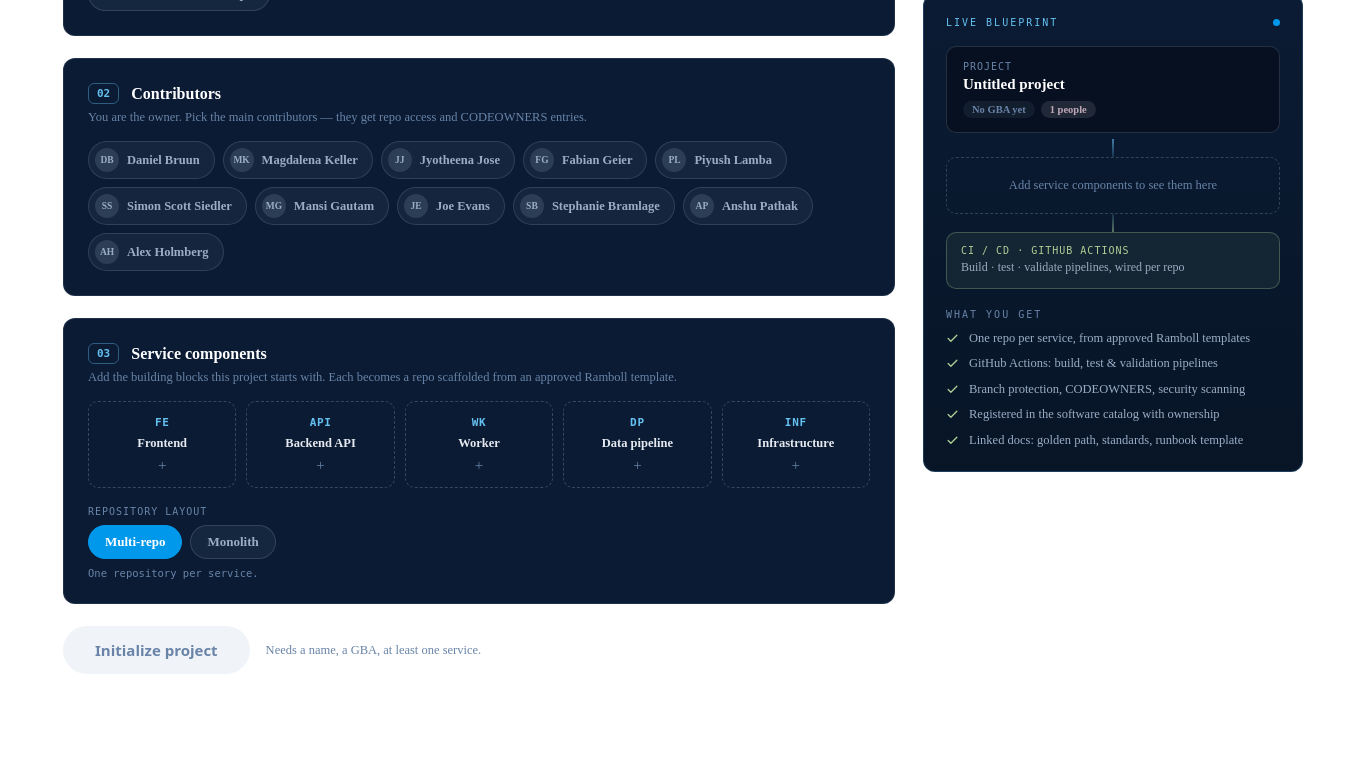
it: WizardScreen › removes a service row via the ✕ control
(page scrolled)
Click the text "Frontend". click: coordinates (162, 444)
box: [137,436,187,451]
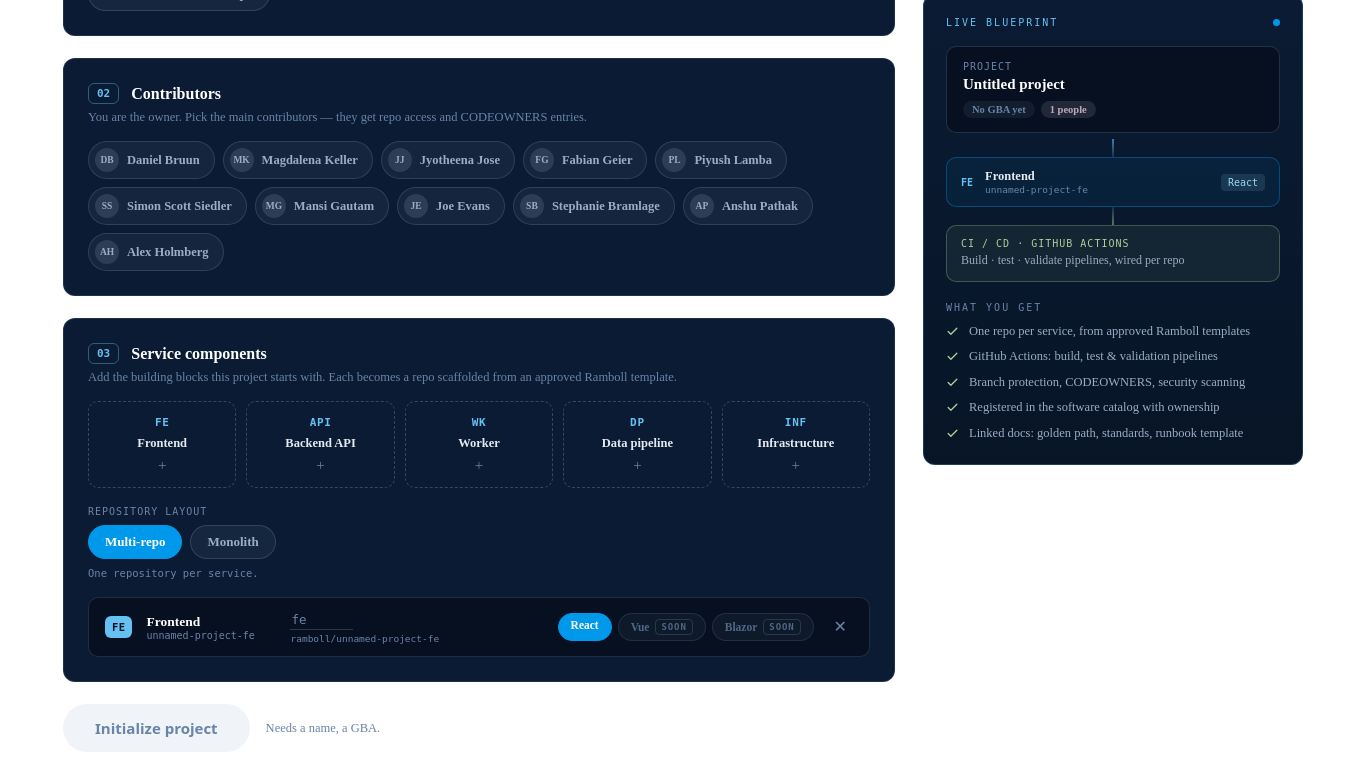
Expected: the text "unnamed-project-fe" is shown 2 times, [146,630,255,640]; [985,184,1088,195]
Click the text "✕". click: coordinates (840, 626)
box: [834,618,847,635]
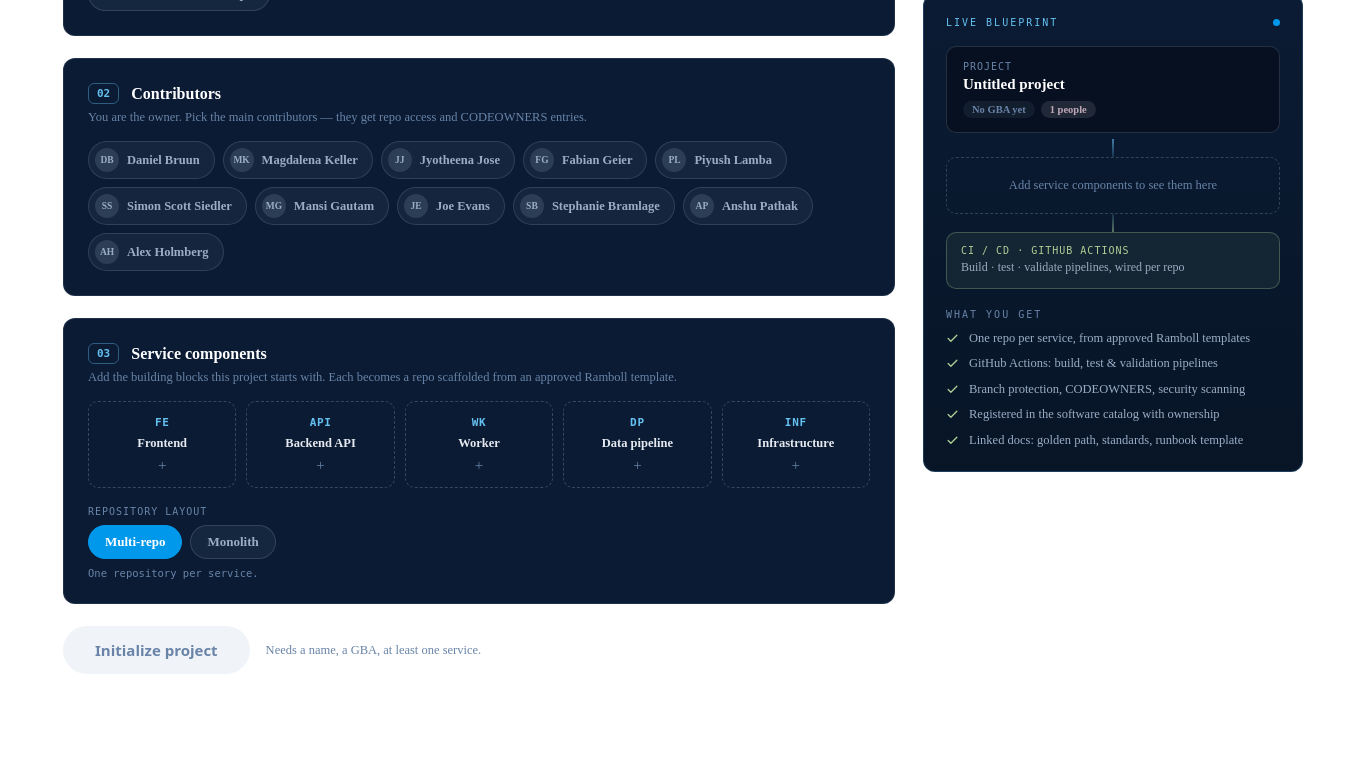
Expected: the text "unnamed-project-fe" is gone
Expected: the text "Add service components to see them here" is shown, [946,157,1280,214]
